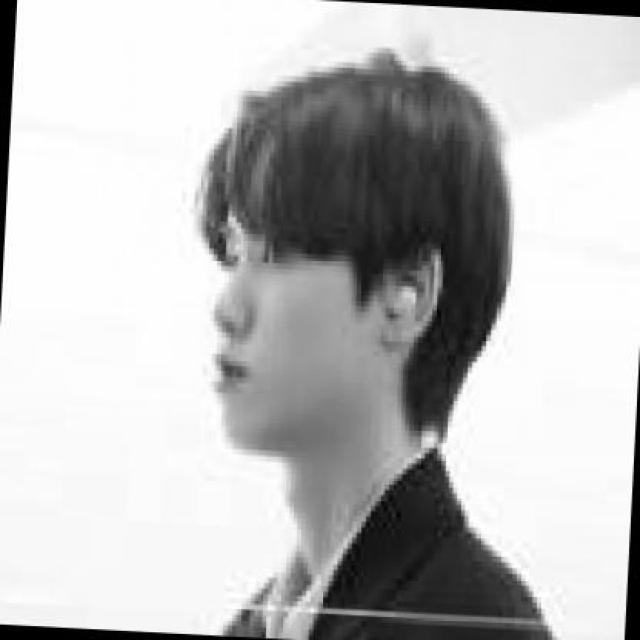earphone: (383, 267, 438, 328)
